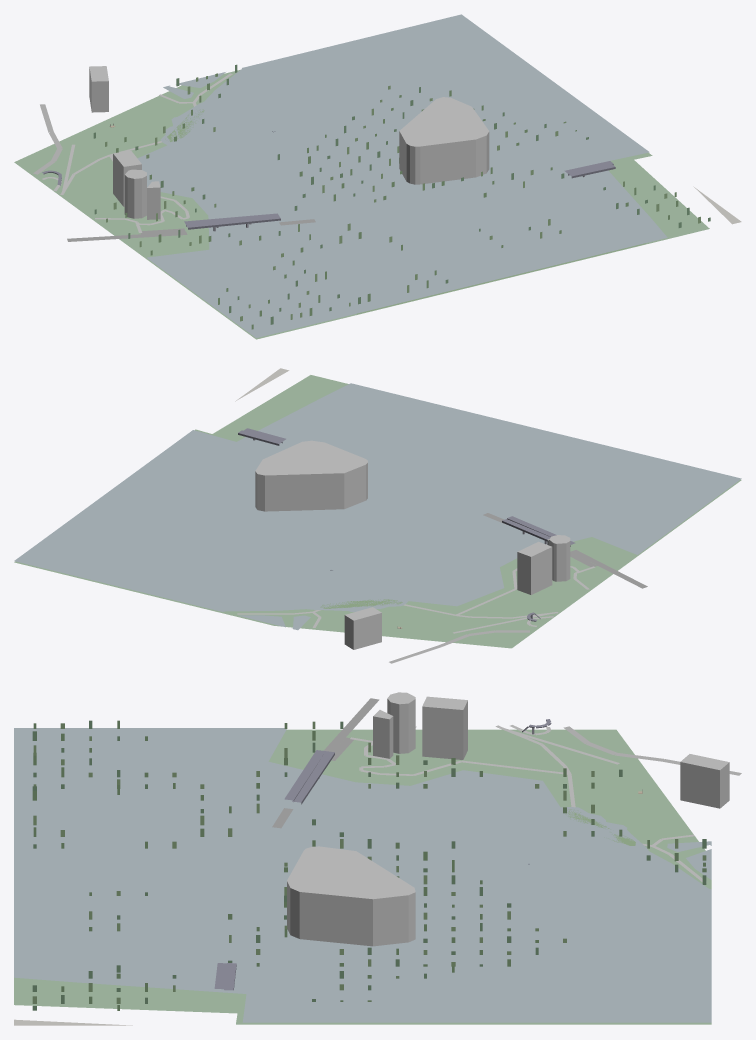
The picture shows the model from 3 angles, top to bottom: view 1: azimuth 30°, elevation 25°; view 2: azimuth 150°, elevation 25°; view 3: azimuth 270°, elevation 25°; orthographic projection. The views are drawn at different scales.
Bounding box in the file's own units: 546 × 43.49 × 522.
